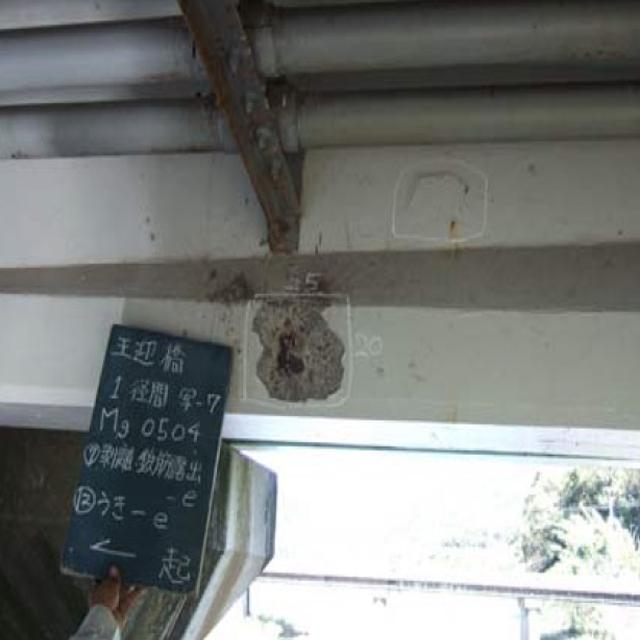corrosion: (177, 17, 316, 256)
spalling: (245, 280, 368, 419)
